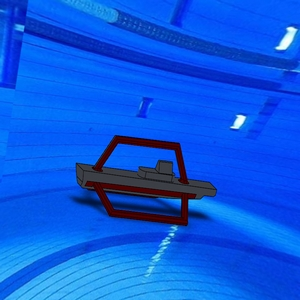submarine: (71, 126, 221, 230)
